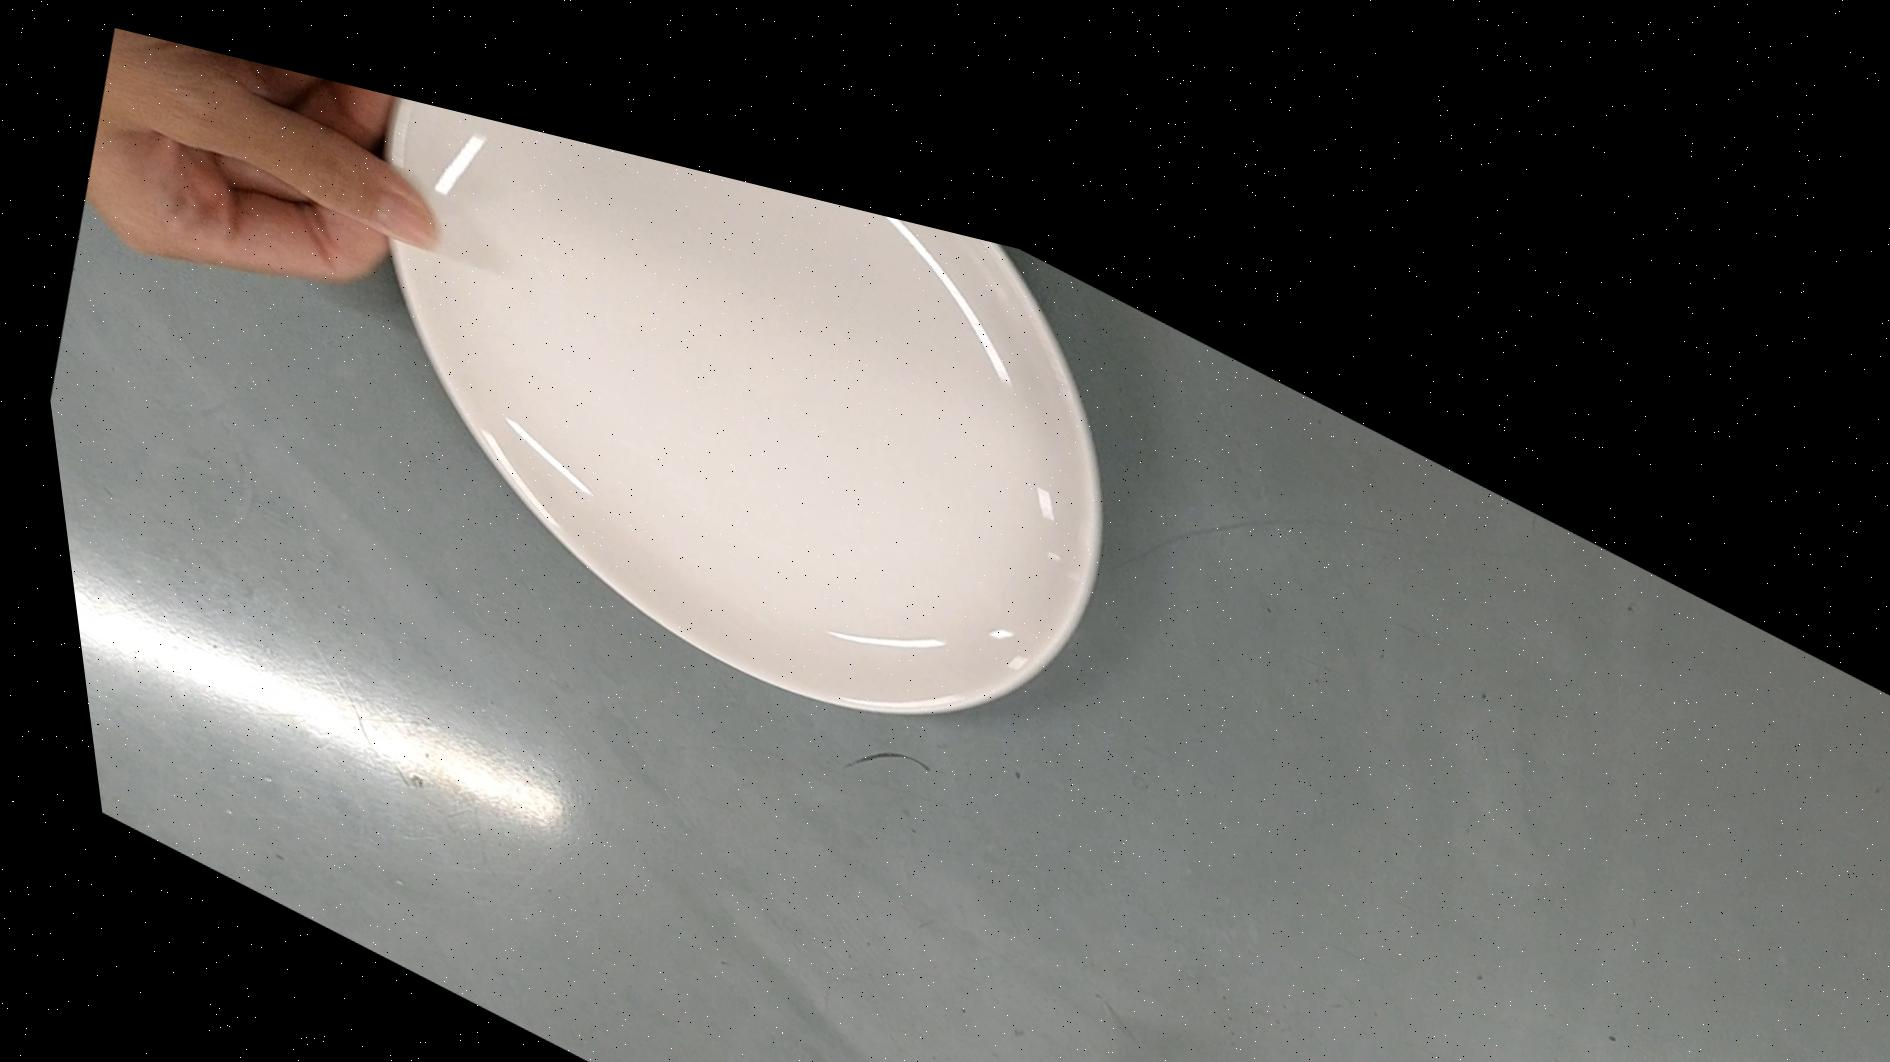plate: (278, 54, 1195, 822)
